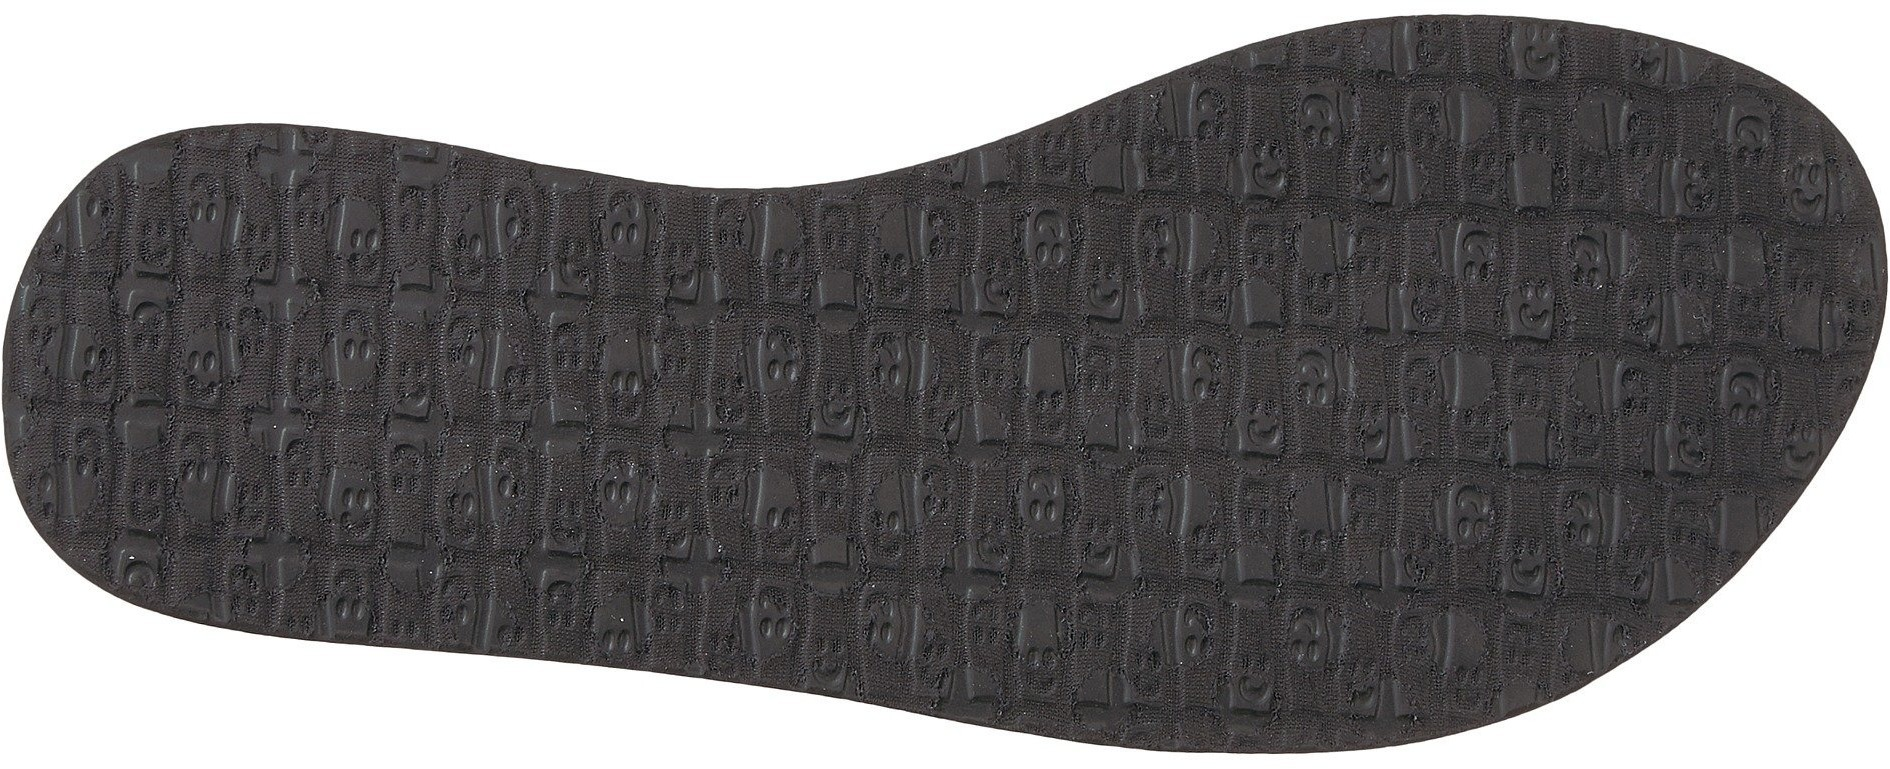quad: (1164, 66, 1735, 593), (198, 169, 702, 650), (685, 224, 1178, 677)
text: (1164, 66, 1735, 593), (198, 169, 702, 650), (685, 224, 1178, 677)
